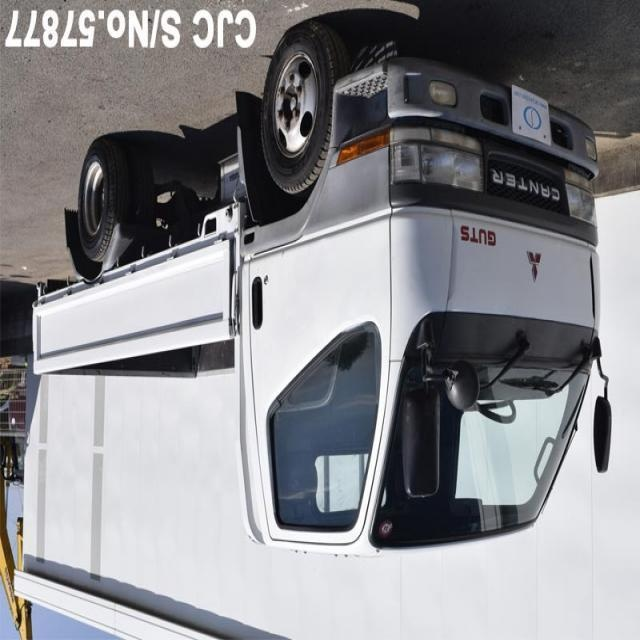Truck: (33, 31, 612, 555)
